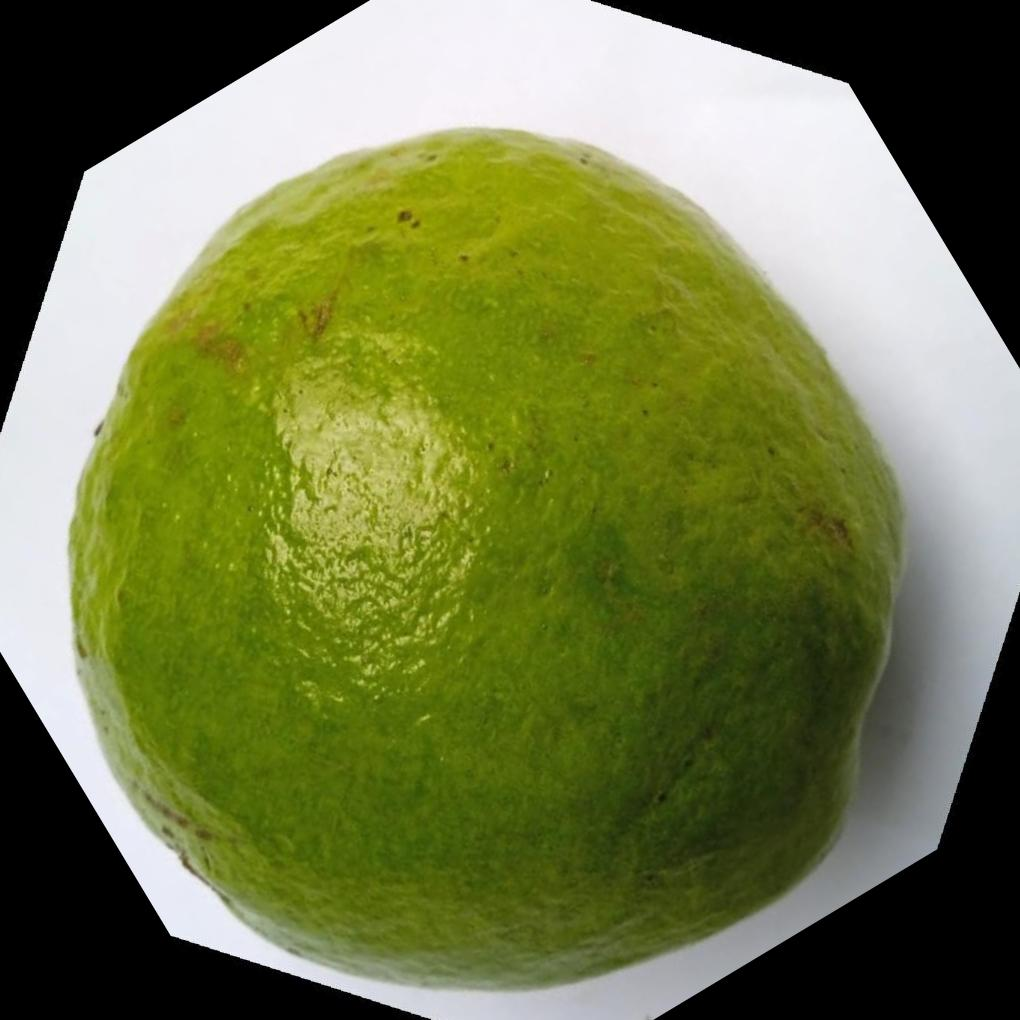FreshGuava: (63, 124, 909, 995)
